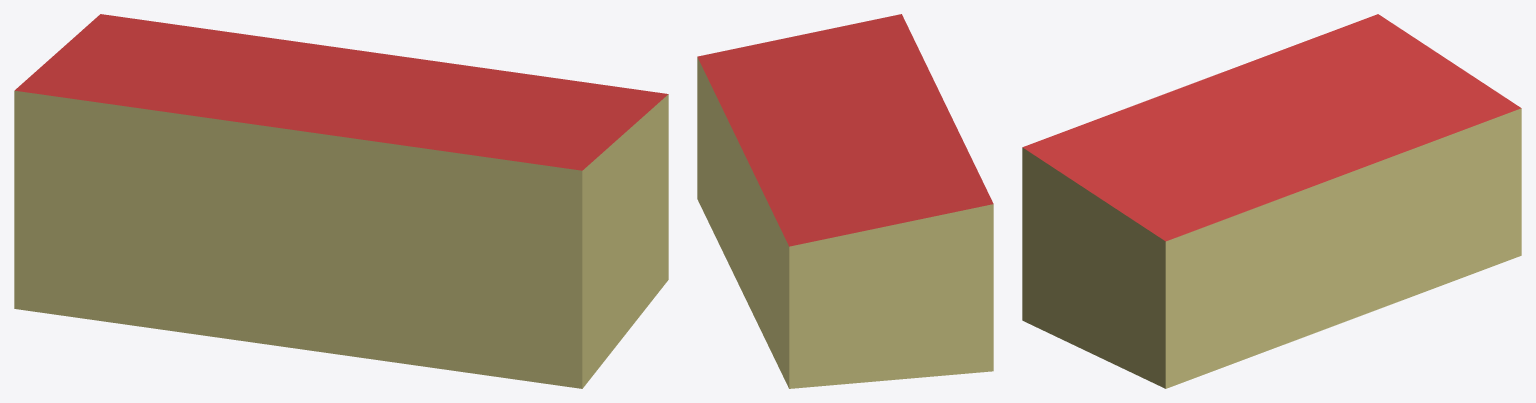
The picture shows the model from 3 angles, left to right: view 1: azimuth 30°, elevation 25°; view 2: azimuth 150°, elevation 25°; view 3: azimuth 270°, elevation 25°; orthographic projection. The views are drawn at different scales.
Visible parts, largest first — view 1: group_4, group_3; view 2: group_4, group_3; view 3: group_4, group_3.
Boxes of the visible parts, x1,y1,x2,y2 form: group_4: (14,90,668,388); group_3: (15,14,668,170); group_4: (697,57,993,388); group_3: (697,14,993,246); group_4: (1022,108,1521,388); group_3: (1022,14,1521,241).
Size of the model in its own units: 16.3 by 17.05 by 6.53.
